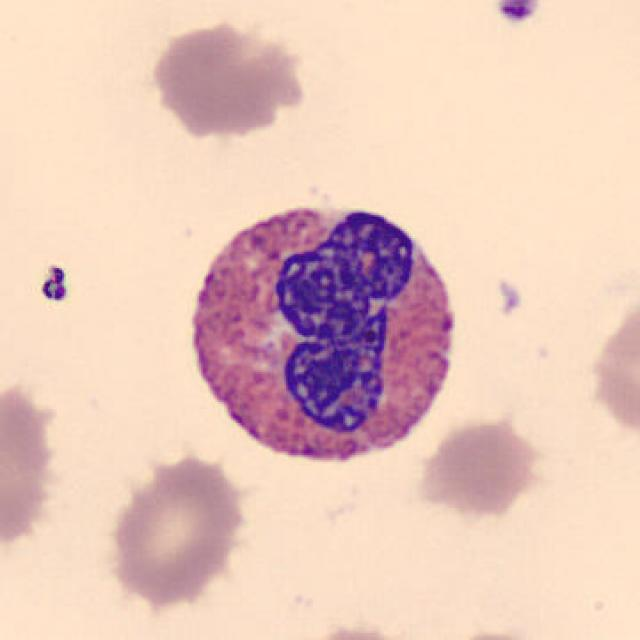Eosinophil: (172, 183, 470, 483)
Platelets: (35, 261, 73, 308), (492, 0, 546, 28), (492, 277, 526, 321)
RBC: (101, 448, 252, 612), (143, 14, 310, 145), (412, 413, 548, 520), (0, 378, 67, 558), (585, 284, 640, 451), (284, 622, 432, 640), (425, 627, 555, 640)
